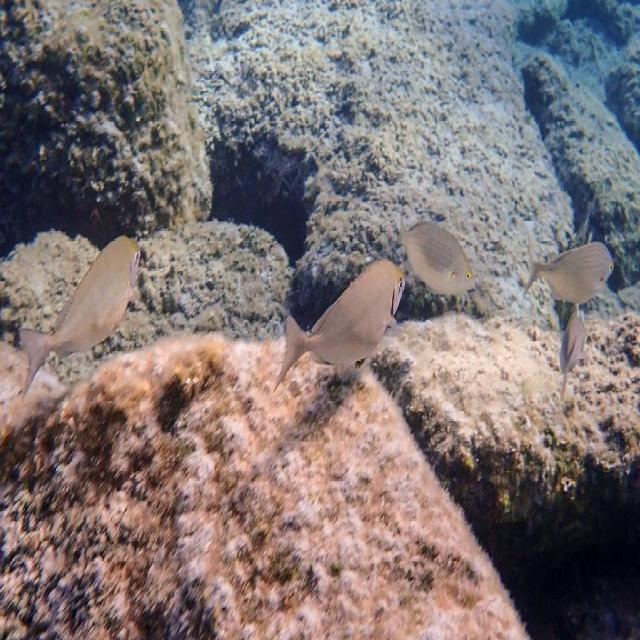Sokar Baligi: (12, 224, 152, 410), (268, 250, 408, 399), (521, 221, 617, 313)
